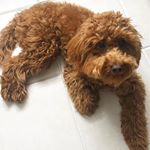puppy: (1, 1, 146, 109)
